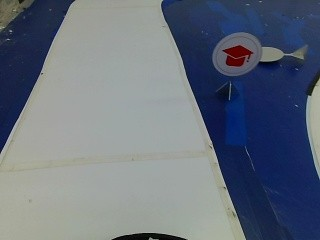school: (210, 30, 262, 79)
